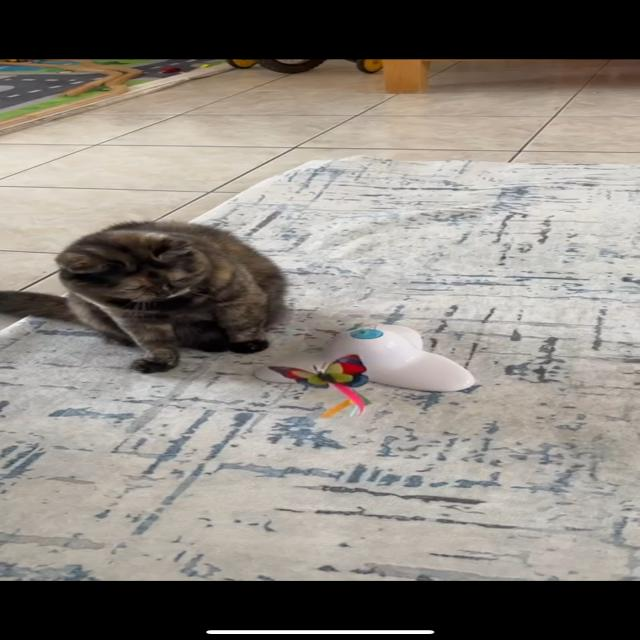authorized: (1, 219, 290, 374)
